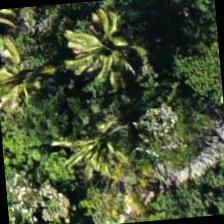Kelapa_Sawit: (48, 96, 146, 194), (0, 30, 61, 126)
